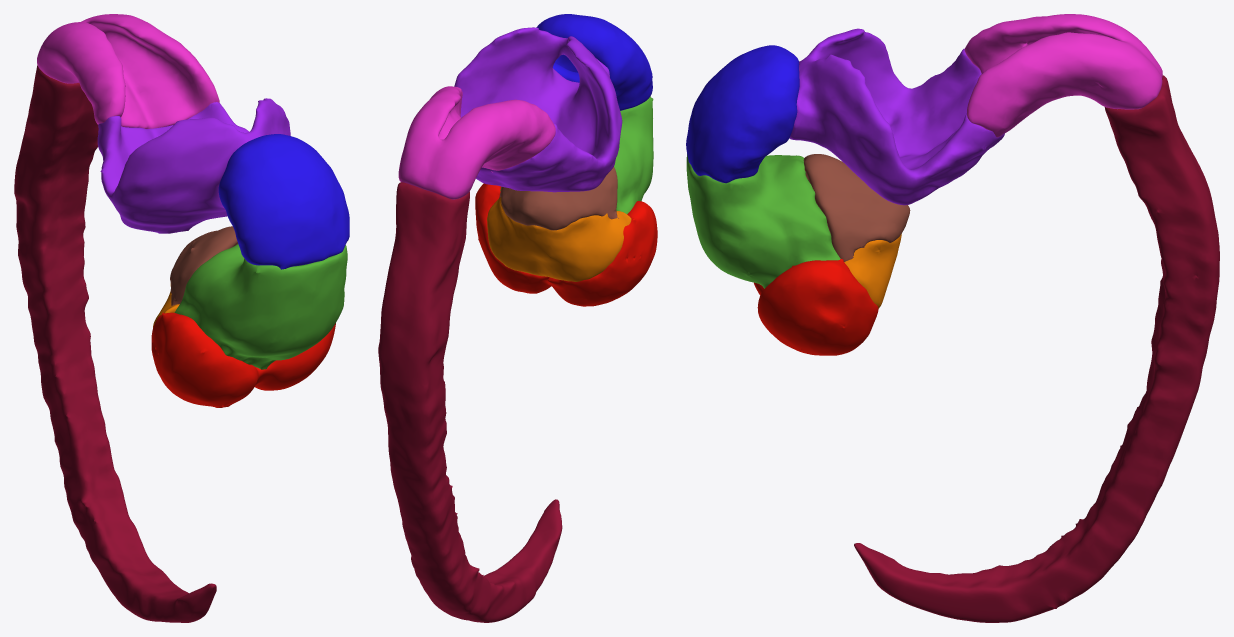
Rendered from N365_brain.glb.
3 renders of one model, left to right at view 1: azimuth 30°, elevation 25°; view 2: azimuth 150°, elevation 25°; view 3: azimuth 270°, elevation 25°, orthographic. The views are drawn at different scales.
Visible parts, largest first — view 1: HDBR_CS17_spinal_cord, HDBR_CS17_metencephalon, HDBR_CS17_diencephalon, HDBR_CS17_medulla_oblongata, HDBR_CS17_midbrain, HDBR_CS17_pallium, HDBR_CS17_hypothalamus; view 2: HDBR_CS17_spinal_cord, HDBR_CS17_metencephalon, HDBR_CS17_medulla_oblongata, HDBR_CS17_subpallium, HDBR_CS17_pallium, HDBR_CS17_midbrain, HDBR_CS17_hypothalamus, HDBR_CS17_diencephalon; view 3: HDBR_CS17_spinal_cord, HDBR_CS17_metencephalon, HDBR_CS17_medulla_oblongata, HDBR_CS17_diencephalon, HDBR_CS17_midbrain, HDBR_CS17_pallium, HDBR_CS17_hypothalamus, HDBR_CS17_subpallium.
Part boxes in pixels (box(x1,y1,x2,y2)): HDBR_CS17_spinal_cord: box(14, 65, 216, 622); HDBR_CS17_metencephalon: box(97, 98, 290, 233); HDBR_CS17_diencephalon: box(174, 244, 347, 369); HDBR_CS17_medulla_oblongata: box(37, 14, 219, 128); HDBR_CS17_midbrain: box(218, 134, 349, 269); HDBR_CS17_pallium: box(151, 312, 335, 407); HDBR_CS17_hypothalamus: box(169, 226, 237, 308); HDBR_CS17_spinal_cord: box(378, 182, 562, 622); HDBR_CS17_metencephalon: box(454, 27, 622, 192); HDBR_CS17_medulla_oblongata: box(398, 86, 555, 199); HDBR_CS17_subpallium: box(487, 197, 631, 281); HDBR_CS17_pallium: box(475, 183, 657, 306); HDBR_CS17_midbrain: box(536, 14, 652, 110); HDBR_CS17_hypothalamus: box(499, 167, 618, 230); HDBR_CS17_diencephalon: box(500, 96, 653, 213); HDBR_CS17_spinal_cord: box(854, 75, 1219, 622); HDBR_CS17_metencephalon: box(789, 28, 1004, 205); HDBR_CS17_medulla_oblongata: box(964, 14, 1162, 137); HDBR_CS17_diencephalon: box(686, 154, 840, 288); HDBR_CS17_midbrain: box(686, 45, 799, 183); HDBR_CS17_pallium: box(754, 259, 878, 355); HDBR_CS17_hypothalamus: box(803, 154, 910, 261); HDBR_CS17_subpallium: box(844, 233, 901, 308).
Size of the model in its own units: 138 by 421 by 343.
